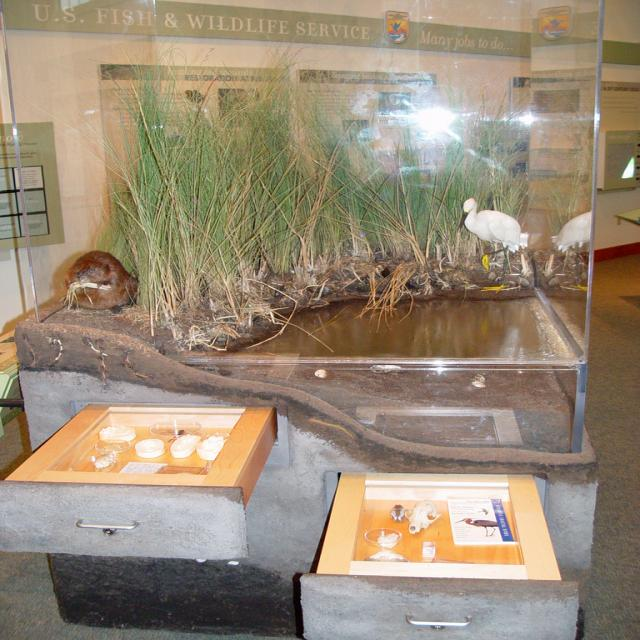Box: (0, 403, 305, 559), (301, 467, 574, 613)
